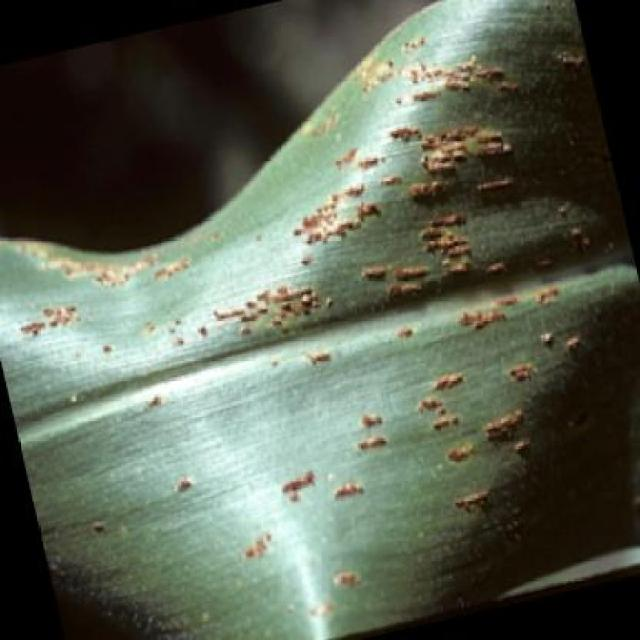Corn_Rust: (52, 49, 588, 577)
